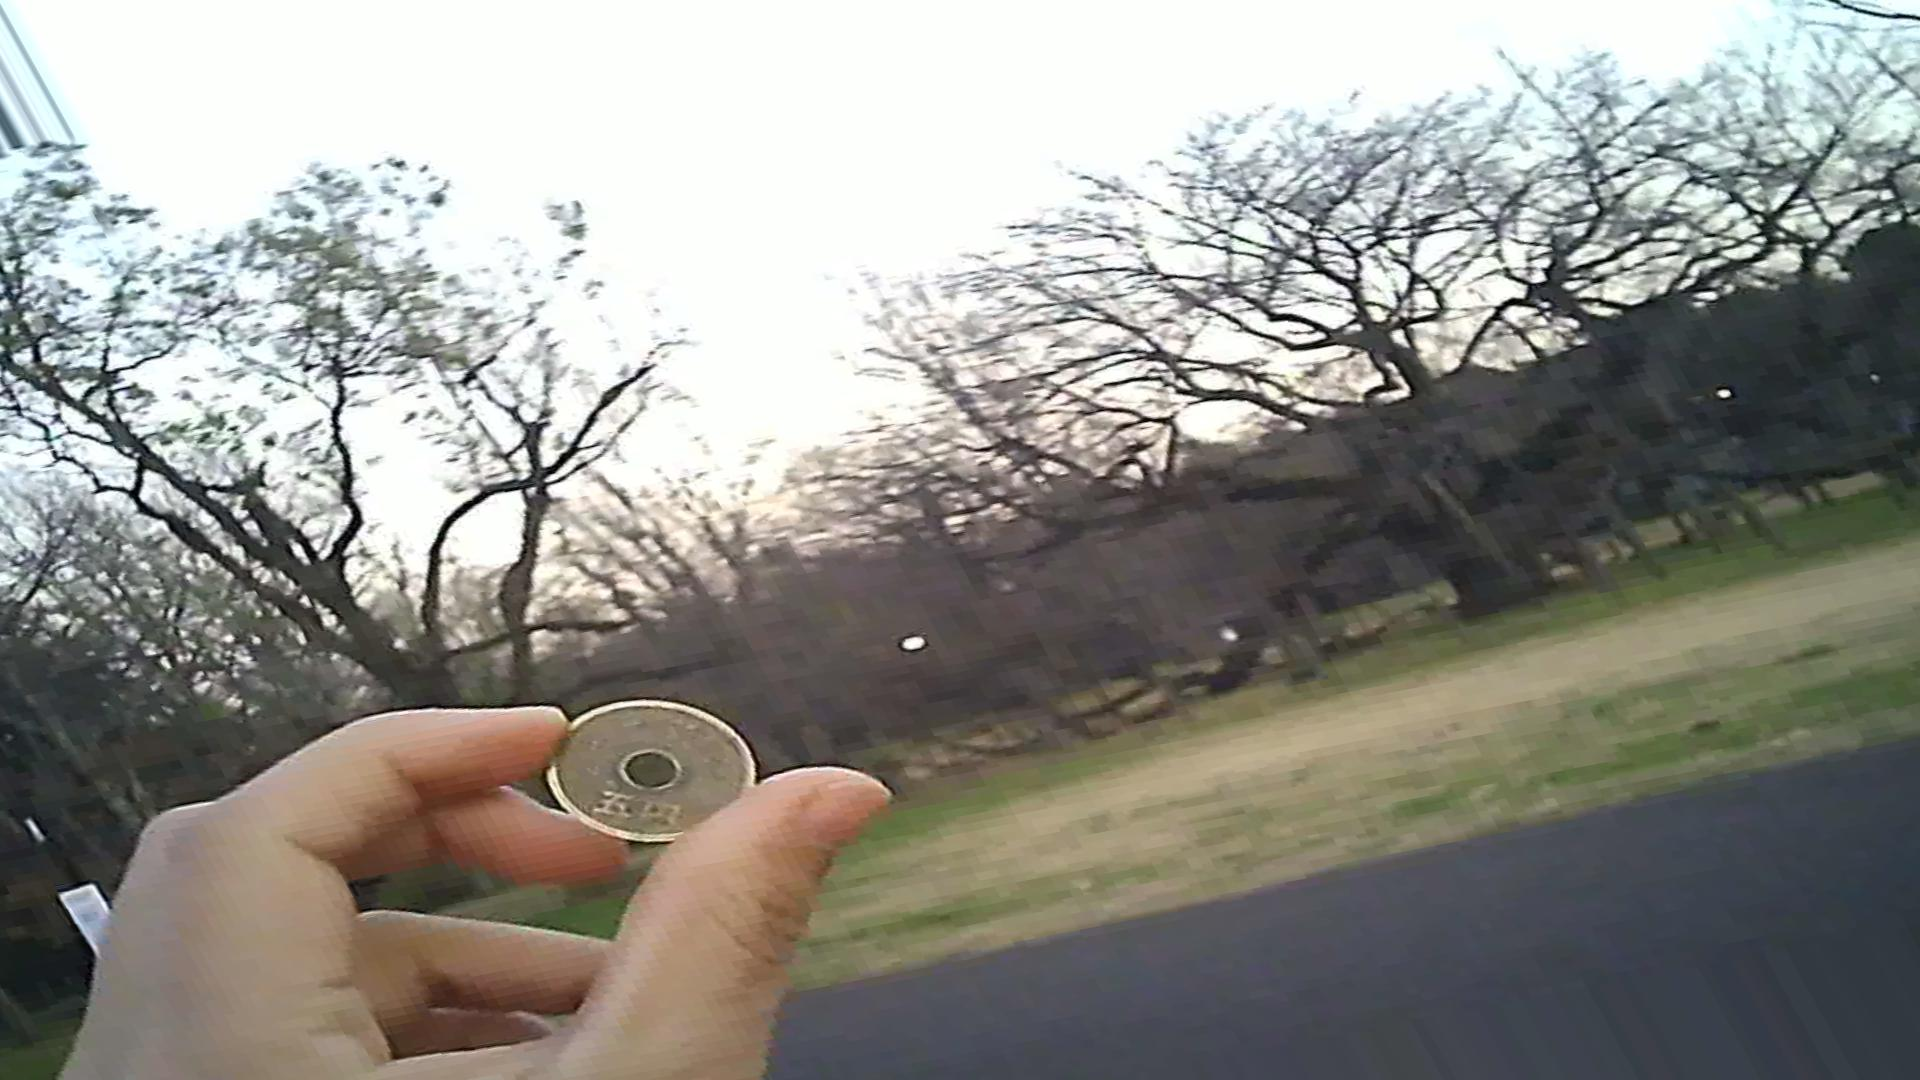5 Yen: (525, 687, 752, 839)
